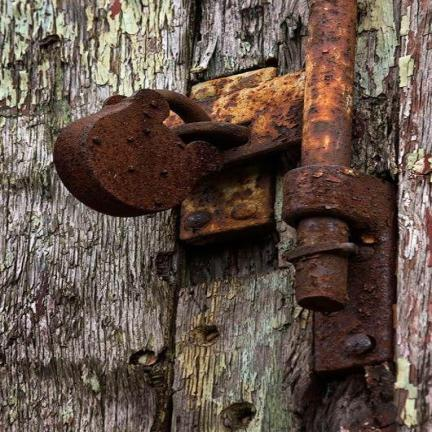karat: (53, 6, 396, 374), (173, 159, 290, 241)
